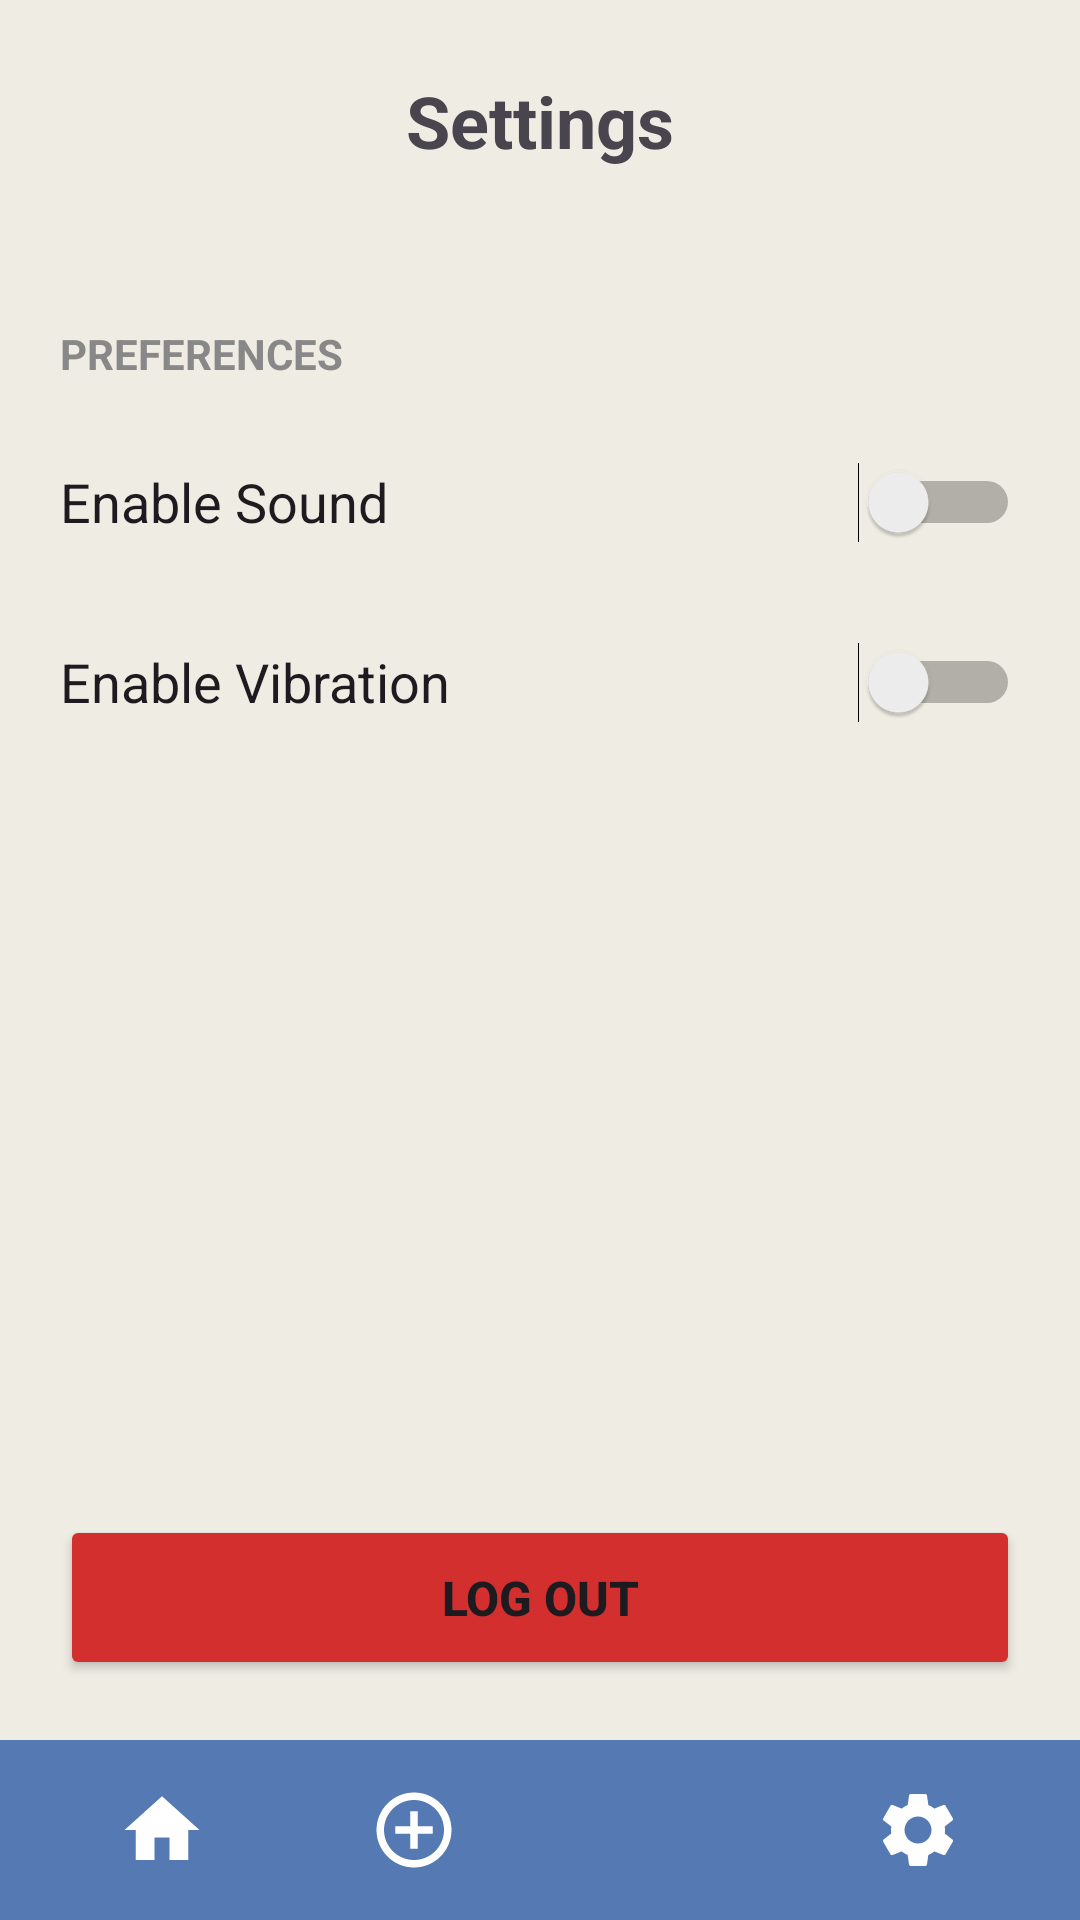

Where icons sit on this 1080×1920 app screen, as (x1, y1, x2, y2):
Add: (376, 1792, 452, 1868)
Home: (125, 1796, 199, 1860)
Settings: (883, 1794, 953, 1866)
